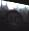Speed Limit -60-: (5, 7, 22, 27)
